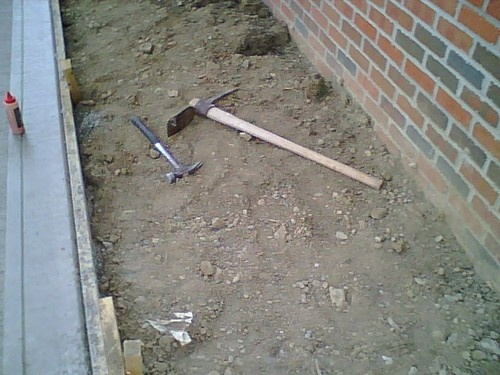hammer: (130, 115, 207, 184)
